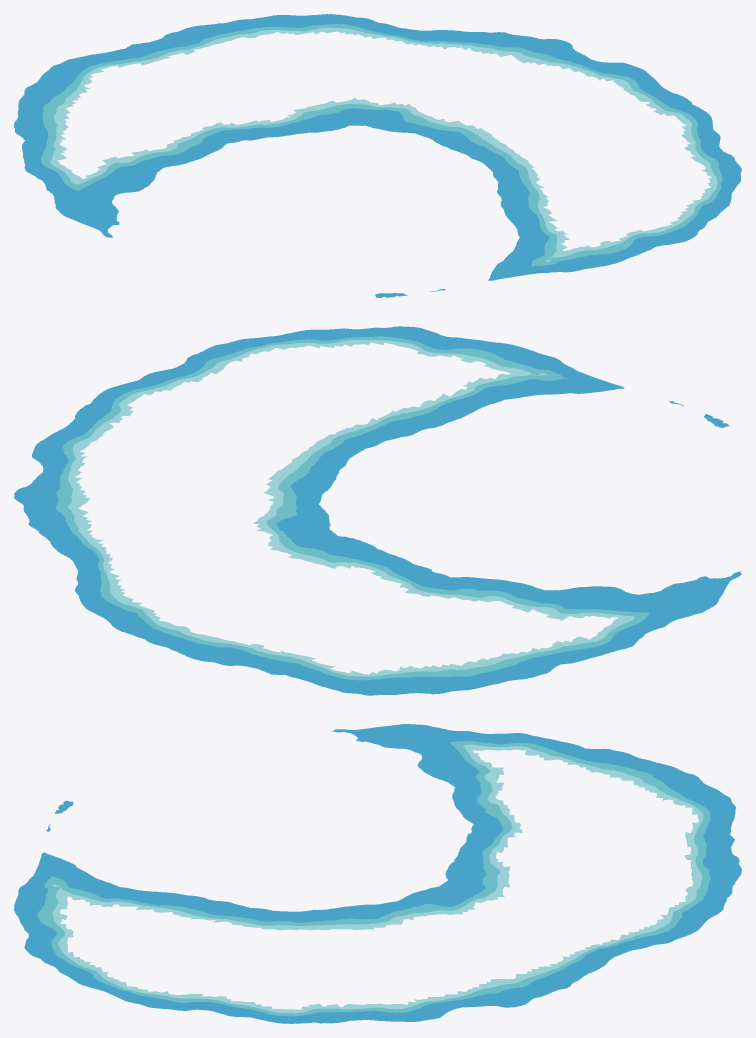
File: Isl-crescent5-Water.fbx
3 views of the same model, one above another, from view 1: azimuth 30°, elevation 25°; view 2: azimuth 150°, elevation 25°; view 3: azimuth 270°, elevation 25° (orthographic). The views are drawn at different scales.
Visible parts, largest first — view 1: Isl-crescent5-Water; view 2: Isl-crescent5-Water; view 3: Isl-crescent5-Water.
Part boxes in pixels (x1=…): Isl-crescent5-Water: x1=14, y1=14, x2=741, y2=297; Isl-crescent5-Water: x1=14, y1=326, x2=741, y2=695; Isl-crescent5-Water: x1=14, y1=724, x2=741, y2=1023.
Size of the model in its own units: 120 by 0 by 123.
